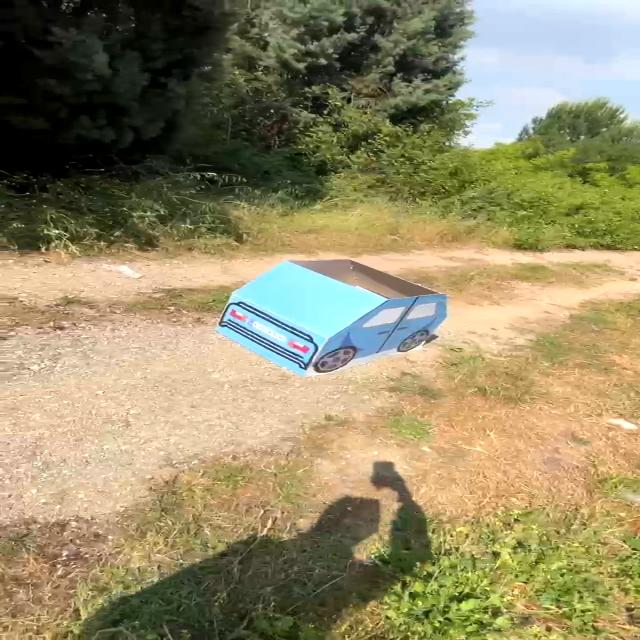blue_car: (205, 246, 467, 381)
